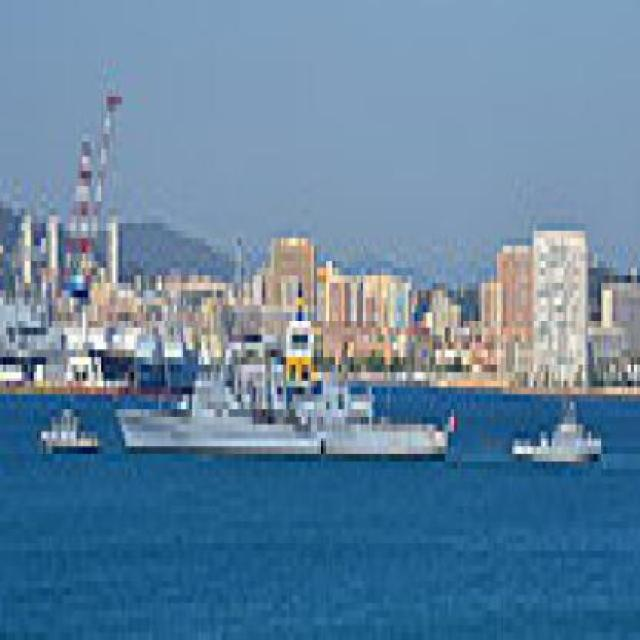warship2: (123, 329, 461, 484)
